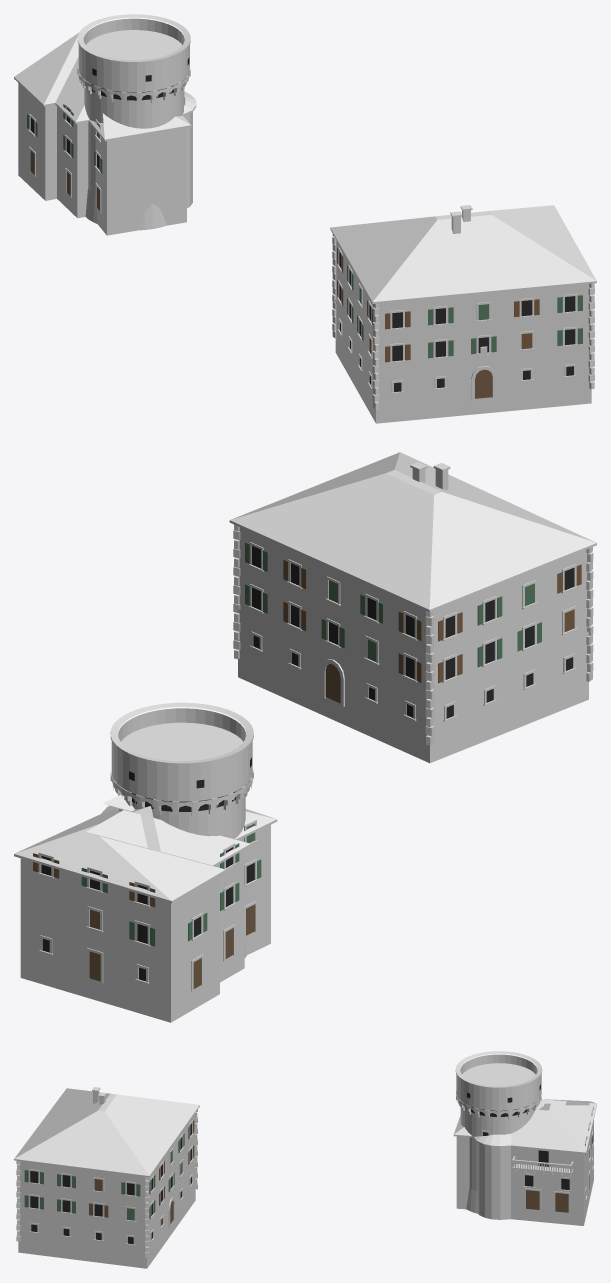
Rendered from cambi.glb.
3 renders of one model, top to bottom at view 1: azimuth 30°, elevation 25°; view 2: azimuth 150°, elevation 25°; view 3: azimuth 270°, elevation 25°, orthographic. The views are drawn at different scales.
Parts seen in each view (by area): view 1: cambi_LOD0; view 2: cambi_LOD0; view 3: cambi_LOD0.
Part boxes in pixels (x1,y1,x2,y2): cambi_LOD0: [14, 14, 596, 423]; cambi_LOD0: [14, 452, 596, 1022]; cambi_LOD0: [14, 1051, 596, 1268].
Size of what is drawn, in the model's own units: 25.75 by 16.79 by 67.05.
